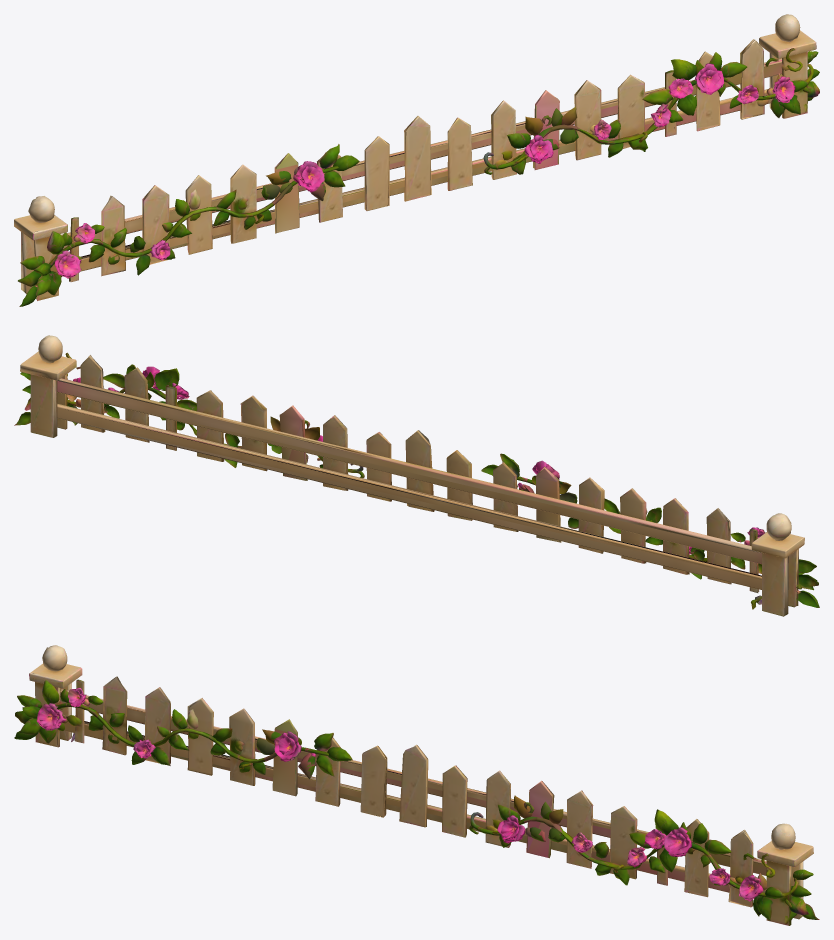
The model's file is fence.glb.
3 renders of one model, top to bottom at view 1: azimuth 30°, elevation 25°; view 2: azimuth 150°, elevation 25°; view 3: azimuth 330°, elevation 25°, orthographic. The views are drawn at different scales.
Parts seen in each view (by area): view 1: geometry_0; view 2: geometry_0; view 3: geometry_0.
Boxes of the visible parts, bbox=[...] form: geometry_0: bbox=[14, 14, 819, 306]; geometry_0: bbox=[14, 335, 819, 616]; geometry_0: bbox=[14, 645, 819, 925].
Bounding box in the file's own units: 0.9551 × 0.1084 × 0.0649.
Materials: 1 (1 with a texture image).
